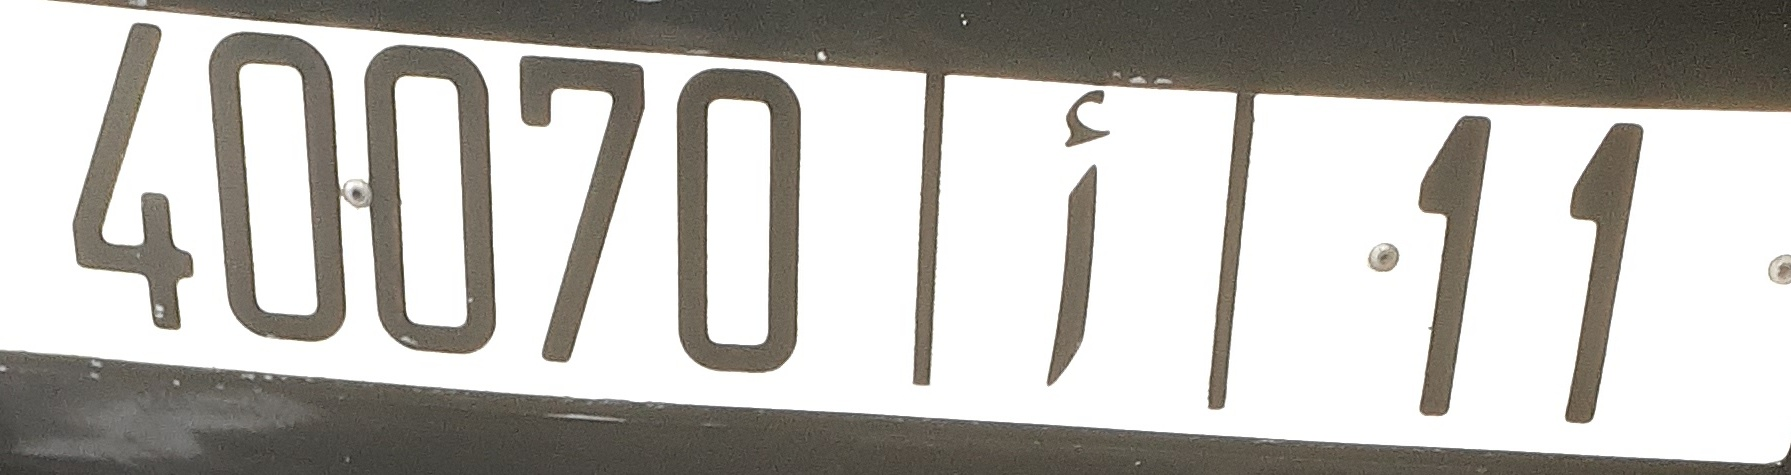0: (663, 61, 819, 374), (205, 29, 355, 353), (357, 40, 507, 367)
1: (1409, 110, 1493, 422), (1561, 118, 1645, 424)
4: (63, 15, 207, 344)
7: (511, 46, 651, 372)
a: (1037, 82, 1121, 391)
